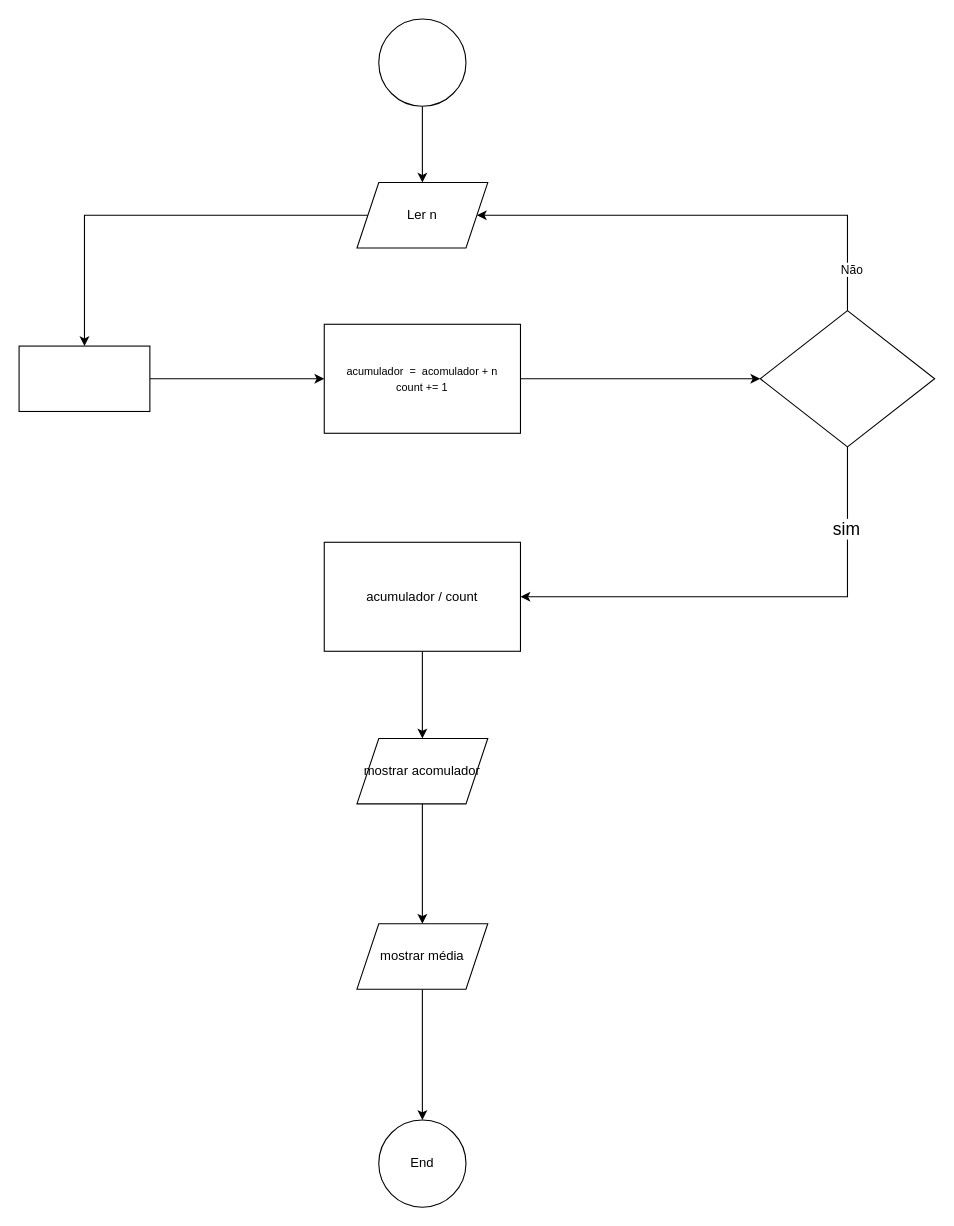
The diagram is 954 pixels wide and 1226 high, and some of its shapes have lost their labels. Each missing label, with the centre of its shape:
acomulador = 0 count = 0: the point at 84,378
acumulador > 1000: the point at 847,378
Inicio: the point at 422,62
